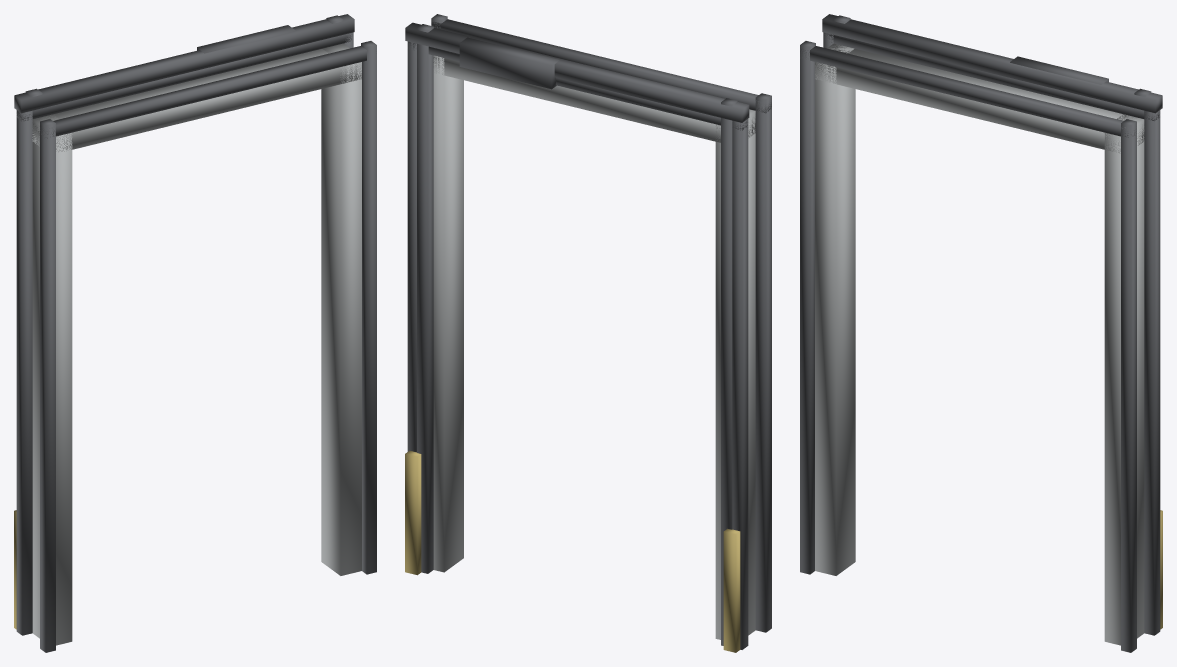
The model's file is bay_opening_loading_bay_w240_h420_d30.glb.
The picture shows the model from 3 angles, left to right: view 1: azimuth 30°, elevation 25°; view 2: azimuth 150°, elevation 25°; view 3: azimuth 330°, elevation 25°; orthographic projection.
Visible parts, largest first — view 1: world; view 2: world; view 3: world.
Part boxes in pixels (box(x1,y1,x2,y2)): world: box(14, 14, 376, 652); world: box(405, 14, 771, 652); world: box(800, 14, 1162, 652).
Size of the model in its own units: 2.98 by 4.59 by 0.522.
